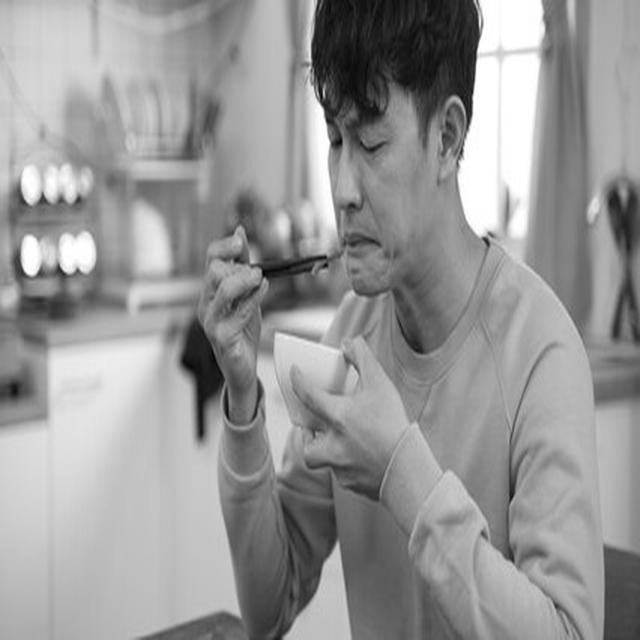Disgust: (323, 45, 436, 296)
